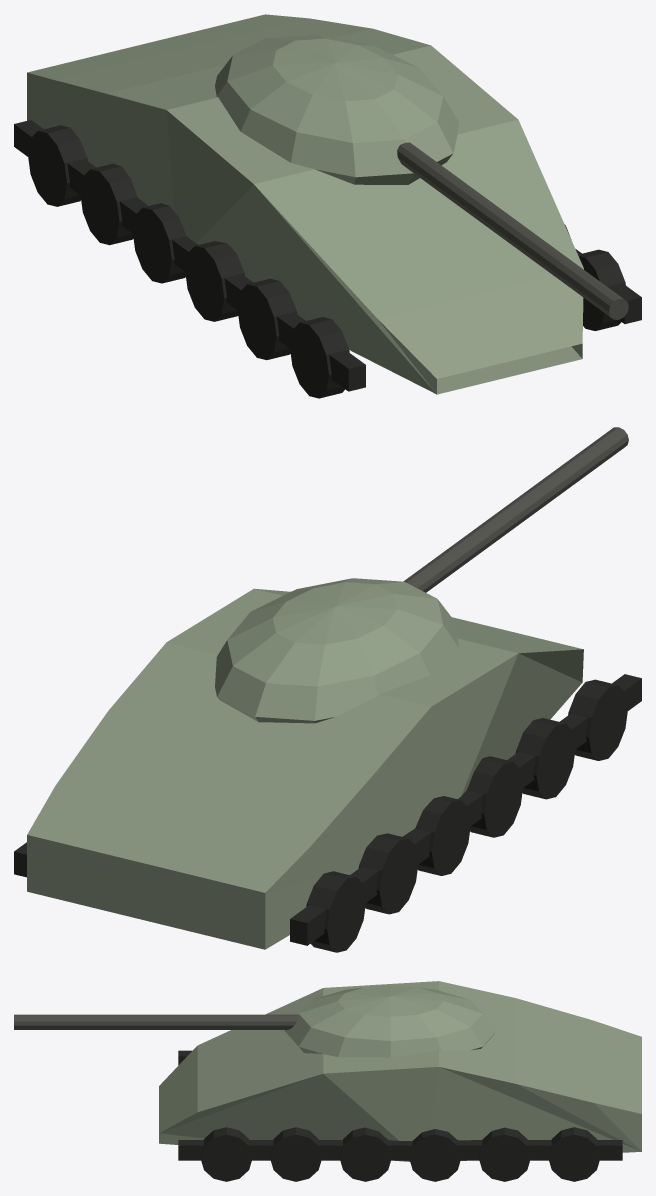
The model's file is cromwell.glb.
3 renders of one model, top to bottom at view 1: azimuth 30°, elevation 25°; view 2: azimuth 150°, elevation 25°; view 3: azimuth 270°, elevation 25°, orthographic. The views are drawn at different scales.
Parts seen in each view (by area): view 1: Hull, Turret, Gun, Track_L, Wheel_L_01, Wheel_L_02, Wheel_L_06, Wheel_L_03, Wheel_L_05, Wheel_L_04, Wheel_R_01, Track_R; view 2: Hull, Turret, Gun, Track_L, Wheel_L_06, Wheel_L_01, Wheel_L_02, Wheel_L_05, Wheel_L_03, Wheel_L_04; view 3: Hull, Turret, Gun, Track_R, Wheel_R_01, Wheel_R_06, Wheel_R_02, Wheel_R_05, Wheel_R_03, Wheel_R_04.
Part boxes in pixels (<box>): Hull: <box>27,14,583,394</box>; Turret: <box>215,34,458,184</box>; Gun: <box>397,142,628,319</box>; Track_L: <box>14,120,365,391</box>; Wheel_L_01: <box>289,317,349,398</box>; Wheel_L_02: <box>237,278,297,360</box>; Wheel_L_06: <box>28,125,87,206</box>; Wheel_L_03: <box>185,241,244,321</box>; Wheel_L_05: <box>80,163,137,245</box>; Wheel_L_04: <box>132,203,186,283</box>; Wheel_R_01: <box>578,249,625,330</box>; Track_R: <box>575,249,641,323</box>; Hull: <box>27,588,583,949</box>; Turret: <box>215,578,458,723</box>; Gun: <box>403,427,628,592</box>; Track_L: <box>290,674,641,945</box>; Wheel_L_06: <box>306,871,366,952</box>; Wheel_L_01: <box>568,679,627,760</box>; Wheel_L_02: <box>515,718,575,799</box>; Wheel_L_05: <box>358,833,418,914</box>; Wheel_L_03: <box>467,756,523,837</box>; Wheel_L_04: <box>415,796,470,875</box>; Hull: <box>159,981,641,1161</box>; Turret: <box>284,985,496,1057</box>; Gun: <box>14,1014,297,1029</box>; Track_R: <box>178,1140,622,1160</box>; Wheel_R_01: <box>200,1127,252,1181</box>; Wheel_R_06: <box>548,1127,600,1181</box>; Wheel_R_02: <box>270,1127,322,1181</box>; Wheel_R_05: <box>478,1127,530,1181</box>; Wheel_R_03: <box>339,1127,391,1181</box>; Wheel_R_04: <box>409,1129,461,1181</box>.
Size of the model in its own units: 3.02 by 1.99 by 8.25.
